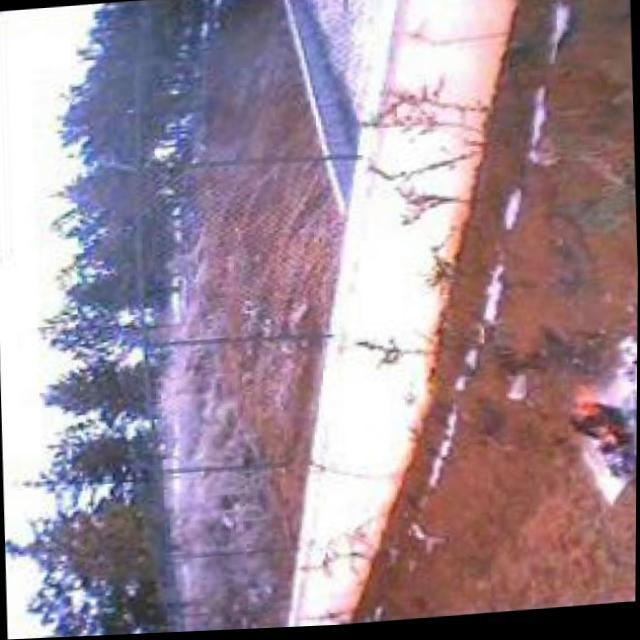fire: (565, 386, 635, 482)
